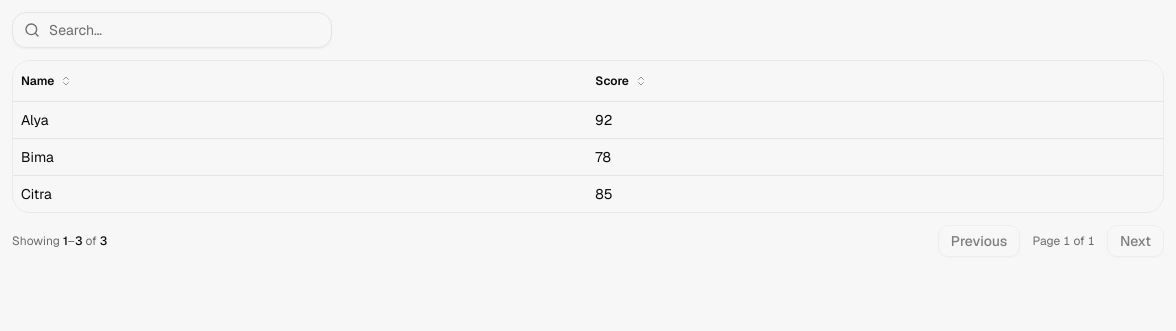
DataTable — filtering › shows the empty state when nothing matches
Type "zzzz" into the field at (172, 30), box [12,12,332,48]
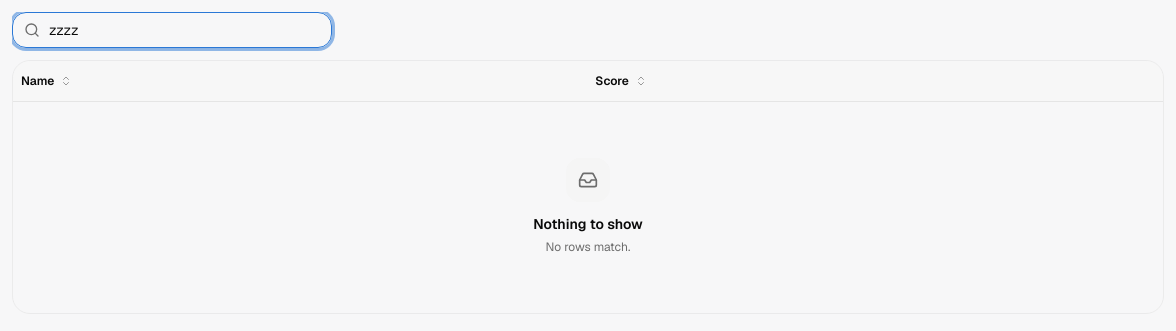
Now the text "No rows match." is shown, box [546,238,630,254]
